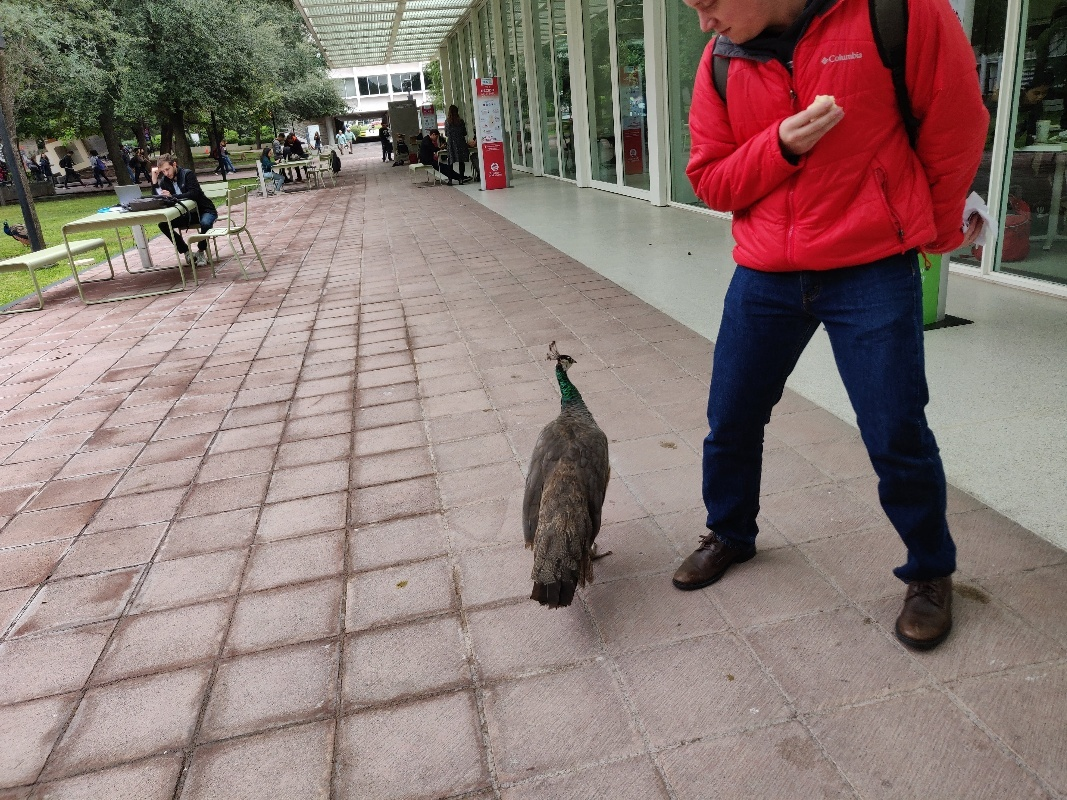pavoreal: (520, 341, 620, 613)
